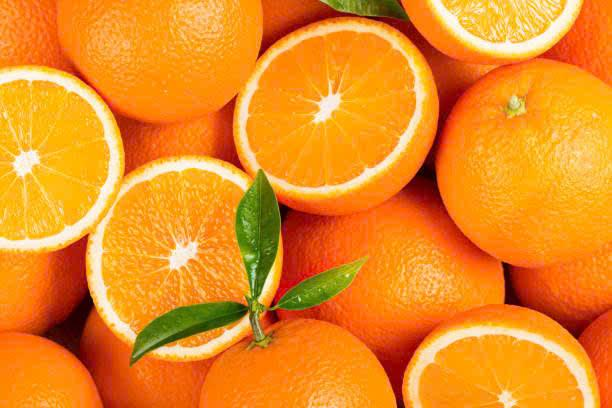orange: (237, 18, 441, 207), (435, 55, 612, 270), (89, 161, 280, 348), (56, 1, 259, 125), (3, 65, 120, 250), (188, 308, 395, 408), (402, 312, 597, 408), (398, 0, 594, 57)
